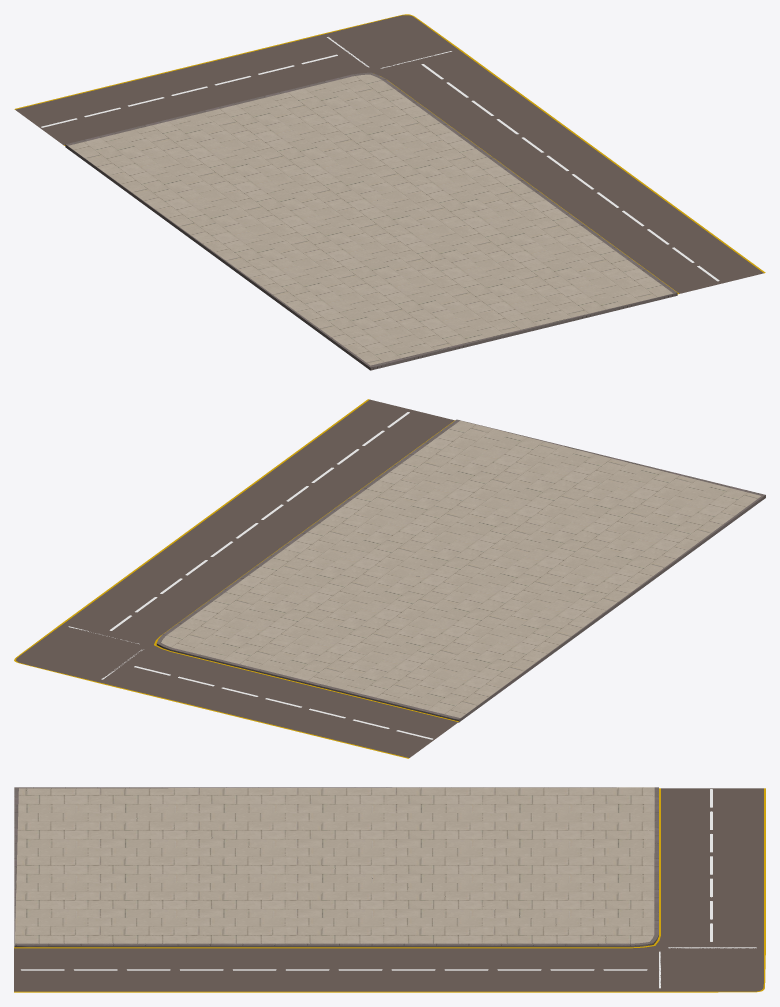
Rendered from street_v2.fbx.
3 views of the same model, one above another, from view 1: azimuth 30°, elevation 25°; view 2: azimuth 150°, elevation 25°; view 3: azimuth 270°, elevation 25° (orthographic). The views are drawn at different scales.
Parts seen in each view (by area): view 1: Street, Road, Border, Lines1; view 2: Street, Road, Border, Lines1; view 3: Street, Road, Border, Lines1, Lines2.
Part boxes in pixels (box(x1,y1,x2,y2)): Street: box(68, 74, 673, 365); Road: box(14, 14, 765, 294); Border: box(65, 72, 677, 370); Lines1: box(421, 64, 719, 281); Street: box(161, 420, 760, 717); Road: box(14, 399, 458, 758); Border: box(156, 419, 765, 722); Lines1: box(109, 412, 409, 630); Street: box(15, 787, 654, 943); Road: box(14, 788, 765, 992); Border: box(14, 787, 658, 947); Lines1: box(21, 969, 647, 970); Lines2: box(710, 789, 712, 941).
Size of the model in its own units: 8995 by 64.82 by 13997.
Materials: 5 (2 with a texture image).
